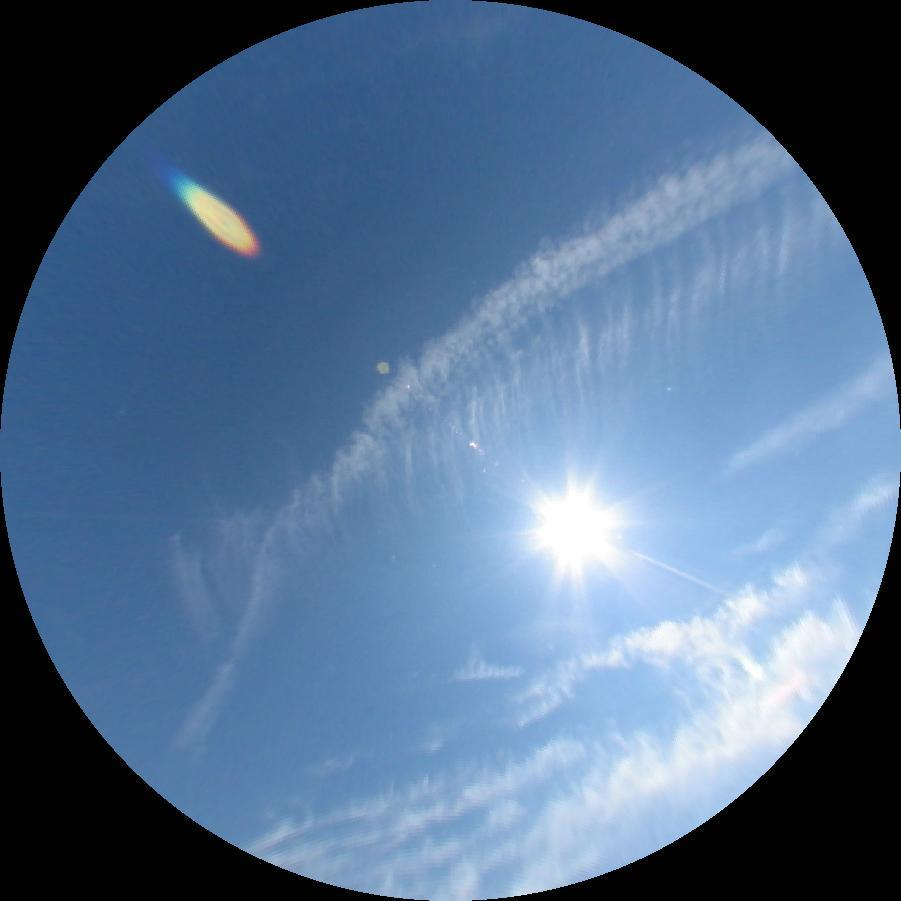contrail veryold: (80, 64, 805, 772), (146, 160, 867, 671)
parasite: (629, 550, 732, 598)
sun: (543, 498, 609, 562)
